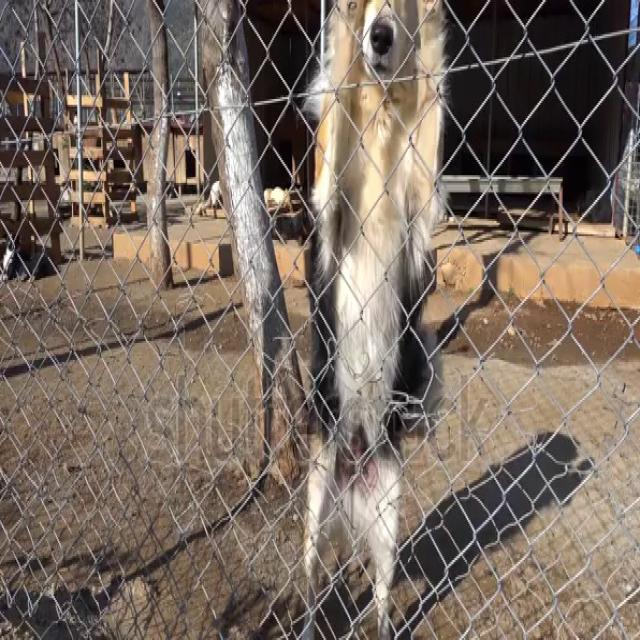normal_animals: (293, 2, 452, 634)
